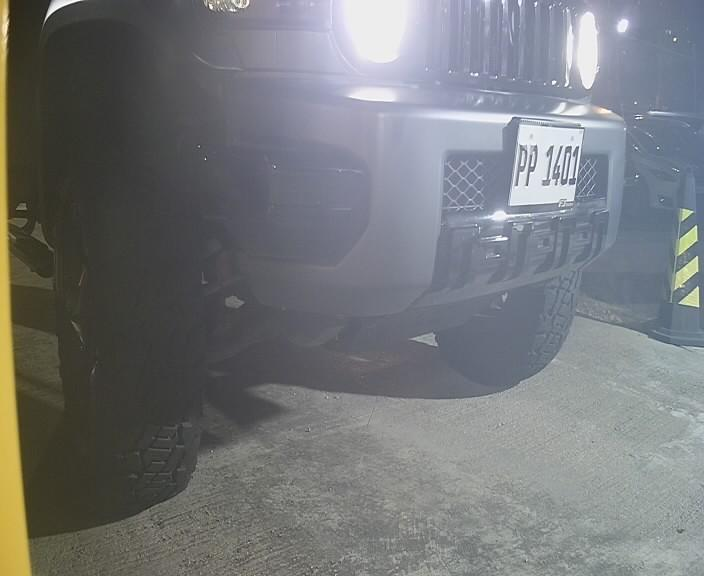Car: (70, 6, 657, 402)
License Plate: (496, 107, 589, 218)
